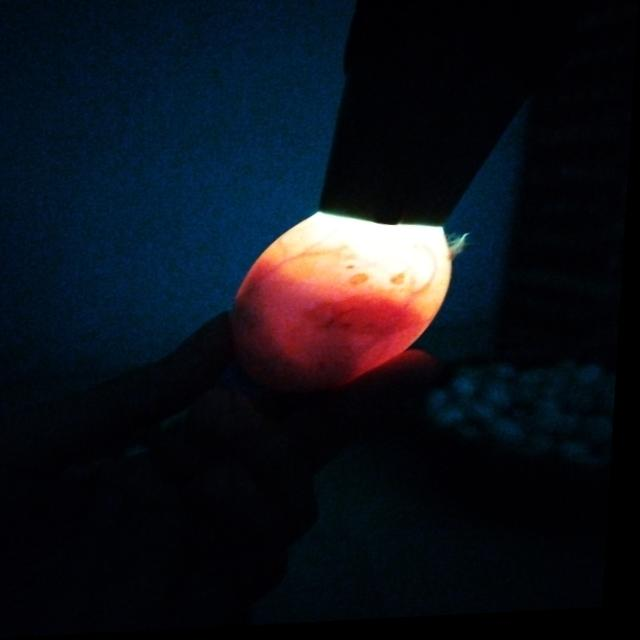Embriao: (231, 303, 357, 404)
